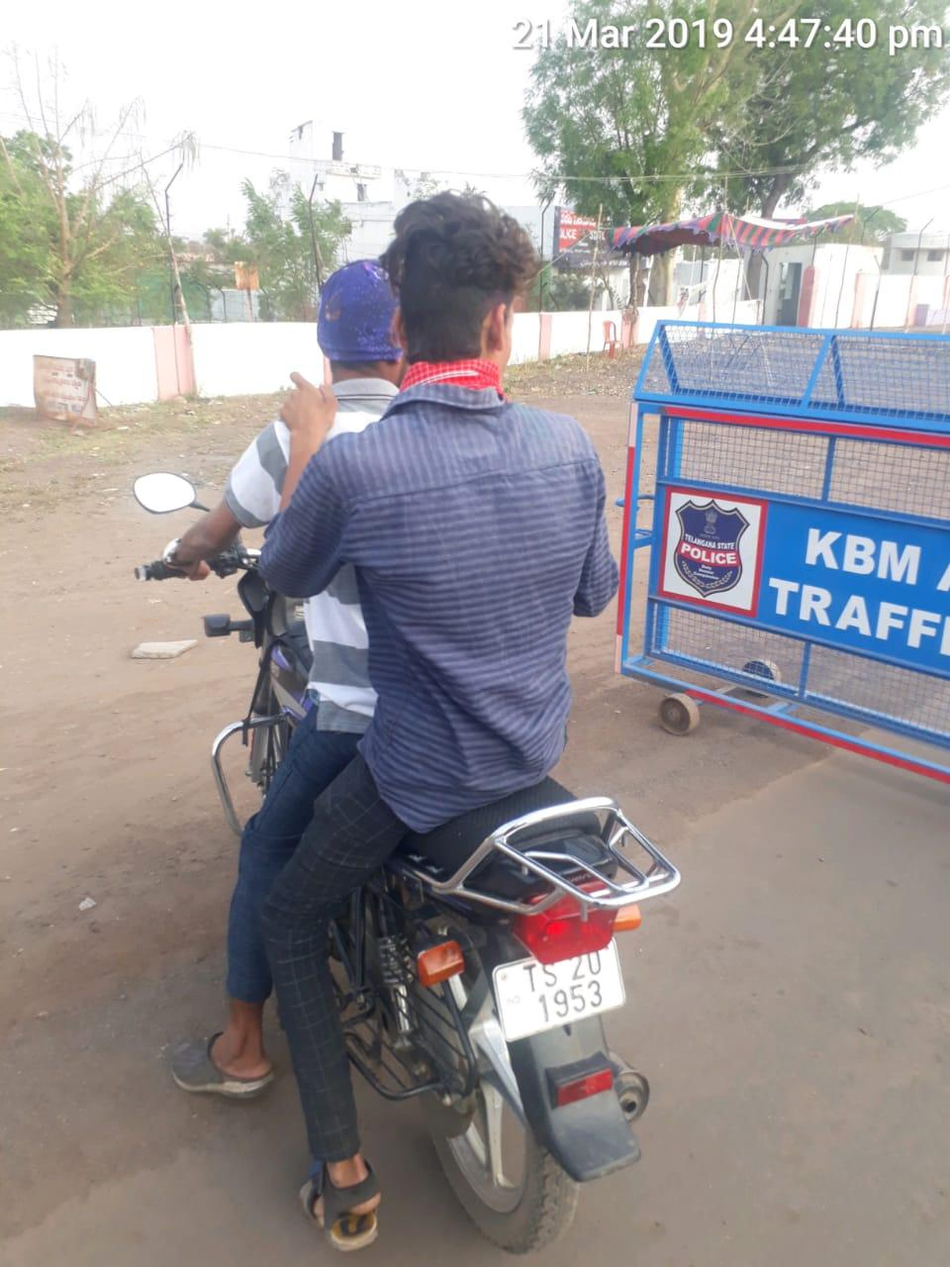plate: (482, 922, 641, 1046)
